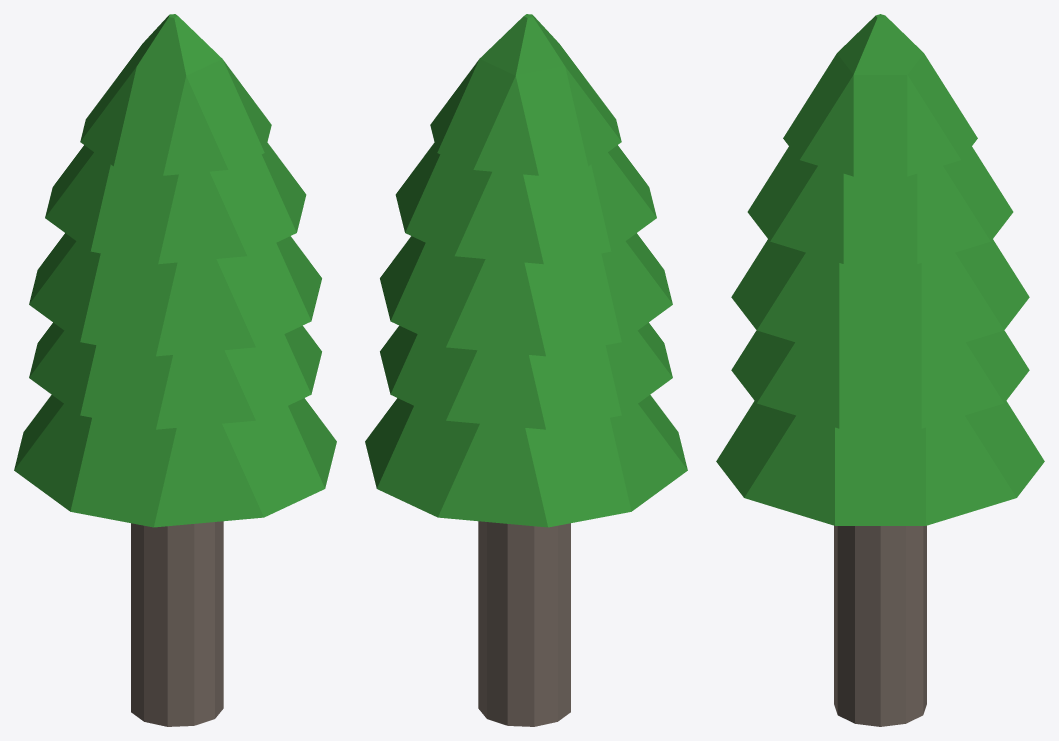
Rendered from tree.fbx.
3 views of the same model, side by side, from view 1: azimuth 30°, elevation 25°; view 2: azimuth 150°, elevation 25°; view 3: azimuth 270°, elevation 25° (orthographic).
Visible parts, largest first — view 1: pCylinder2; view 2: pCylinder2; view 3: pCylinder2.
Boxes of the visible parts, <box> form: pCylinder2: <box>14,14,336,726</box>; pCylinder2: <box>365,14,687,726</box>; pCylinder2: <box>716,14,1044,726</box>.
Size of the model in its own units: 25.61 by 62.29 by 26.93.
